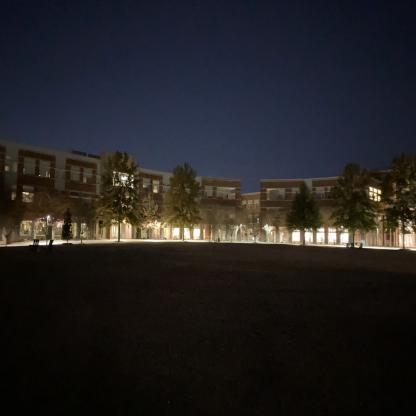eb2: (255, 172, 416, 253)
